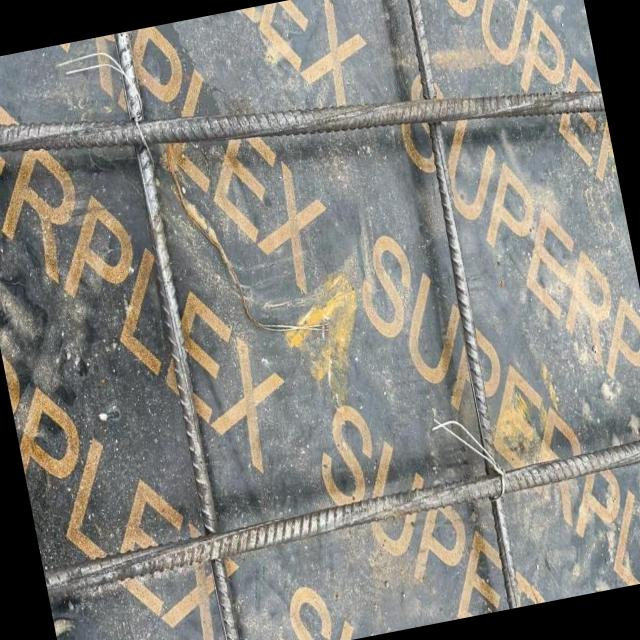ribbed bar: (0, 4, 605, 231), (41, 433, 640, 596), (386, 0, 537, 608), (107, 31, 249, 640)
